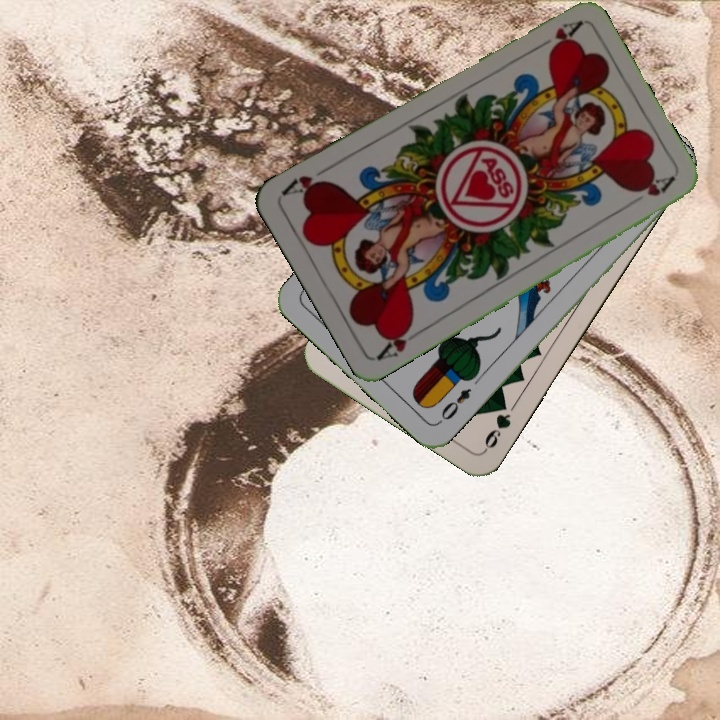EO: (434, 384, 474, 427)
G9: (480, 396, 514, 454)
HA: (373, 320, 426, 363), (529, 17, 583, 54)
